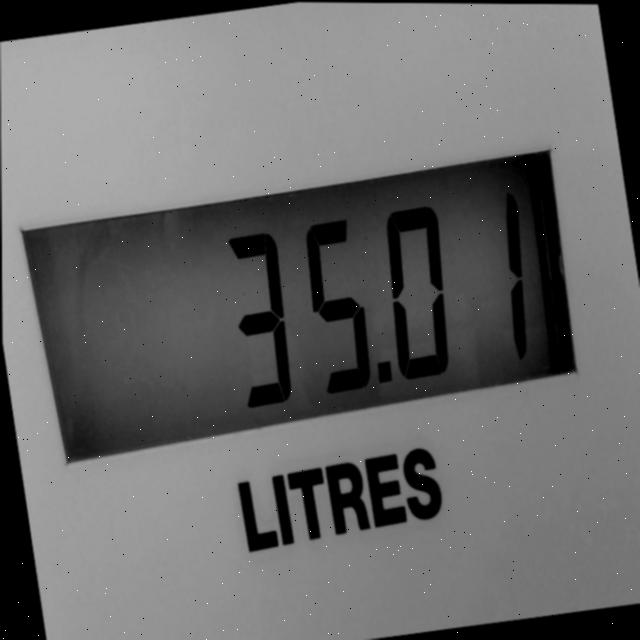.: (366, 344, 407, 402)
0: (368, 196, 473, 396)
1: (466, 171, 552, 369)
3: (199, 218, 307, 423)
5: (283, 209, 389, 403)
